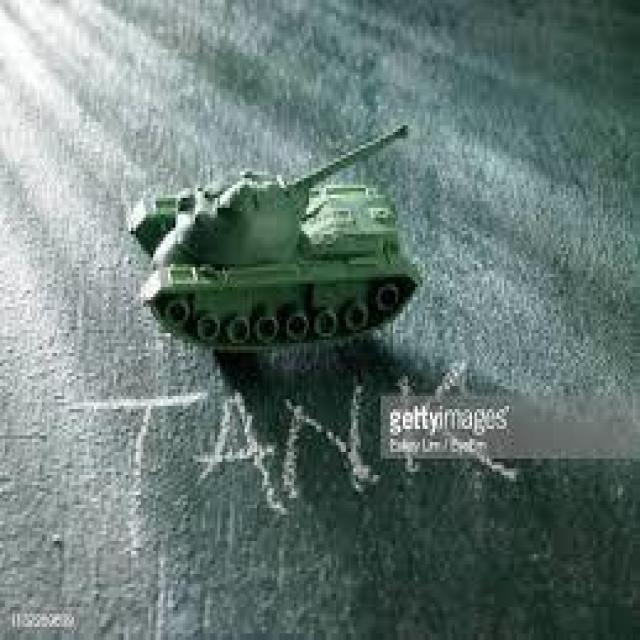MIL_MBT: (125, 124, 434, 365)
